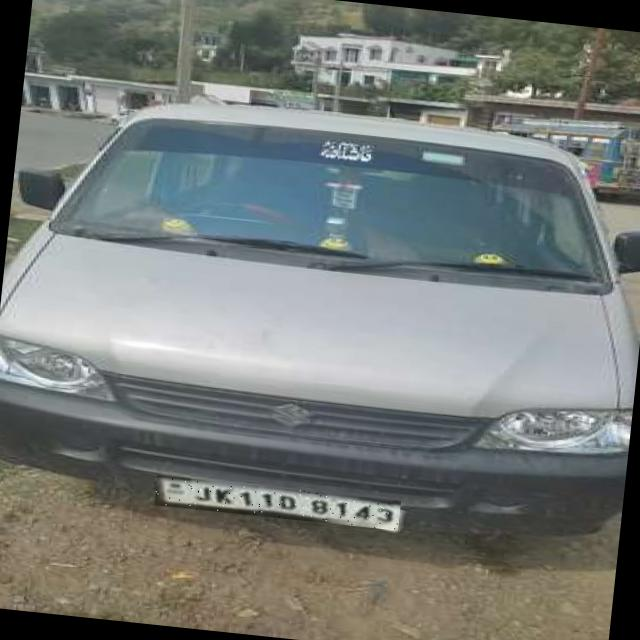Plate: (155, 476, 402, 531)
